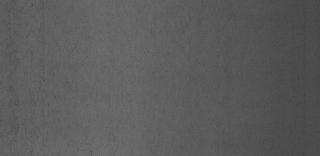silk spot: (120, 22, 228, 106)
